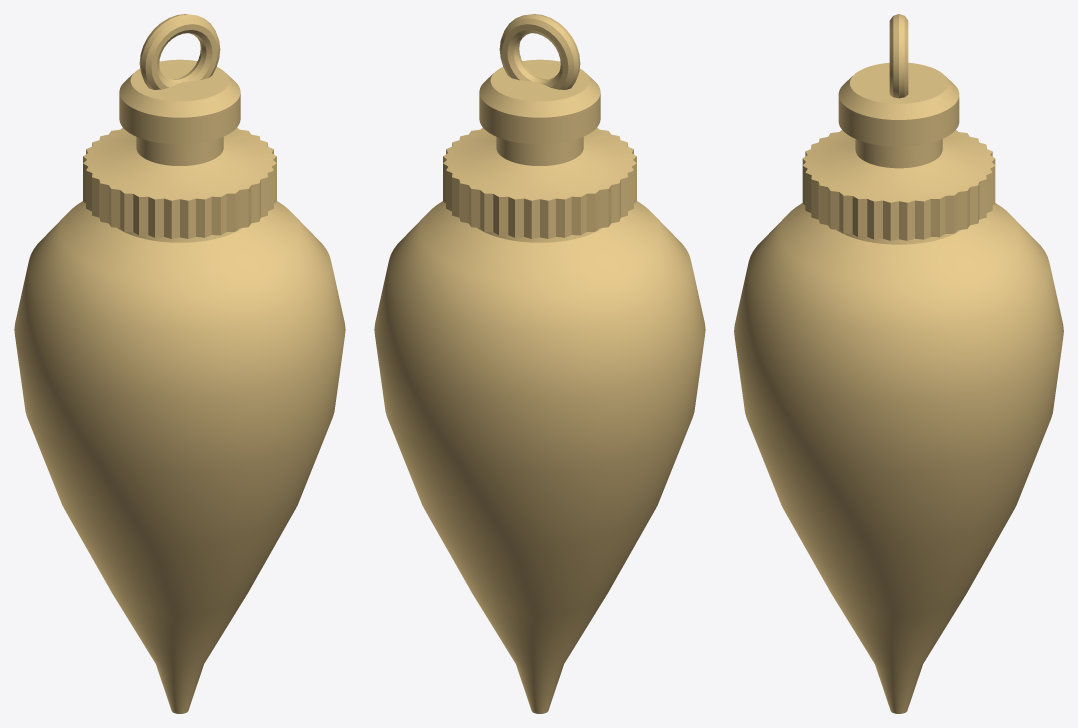
File: prumo.glb
3 renders of one model, left to right at view 1: azimuth 30°, elevation 25°; view 2: azimuth 150°, elevation 25°; view 3: azimuth 270°, elevation 25°, orthographic.
Visible parts, largest first — view 1: PrumoBob; view 2: PrumoBob; view 3: PrumoBob.
Boxes of the visible parts, left/top/right/bottom form: PrumoBob: left=14, top=14, right=345, bottom=713; PrumoBob: left=374, top=14, right=705, bottom=713; PrumoBob: left=734, top=14, right=1063, bottom=713.
Size of the model in its own units: 0.47 by 1.09 by 0.47.
